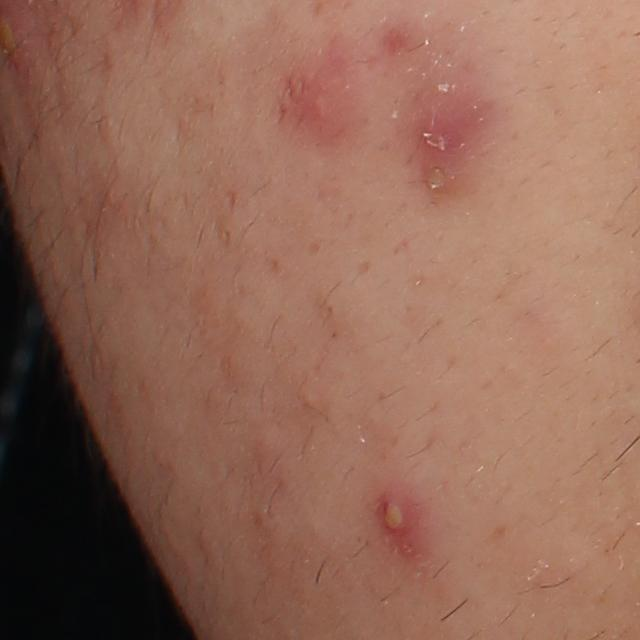papule: (403, 80, 487, 180)
pustule: (372, 484, 418, 542)
